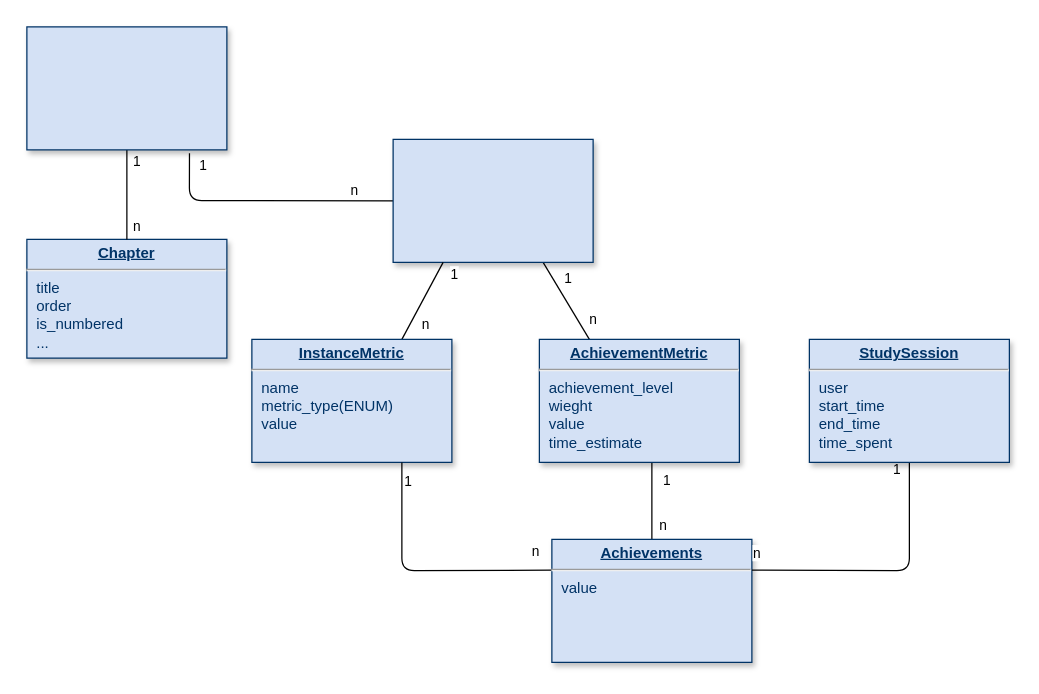
The diagram is 1039 pixels wide and 694 high, and some of its shapes have lost their labels. The shapes that lost their labels are listed below. From the top down, each one's centre as x and y in pixels, then its label:
At (127,90): "Course user title study_points ...".
At (494,202): "CourseMetric name metric_type(ENUM)".
